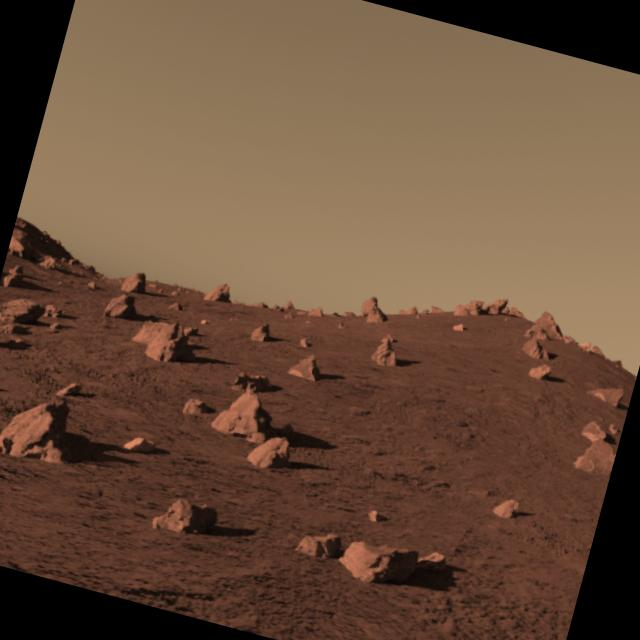rock: (0, 388, 76, 467), (336, 532, 424, 592), (209, 380, 277, 444), (128, 314, 190, 369), (569, 434, 618, 482), (585, 373, 630, 414), (525, 304, 568, 346), (0, 290, 48, 327), (286, 348, 324, 387), (365, 335, 403, 370), (357, 292, 388, 326)
